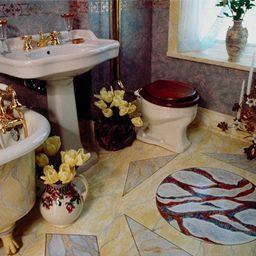Lavamanos: (7, 40, 126, 87)
Sanitario: (135, 77, 204, 153)
